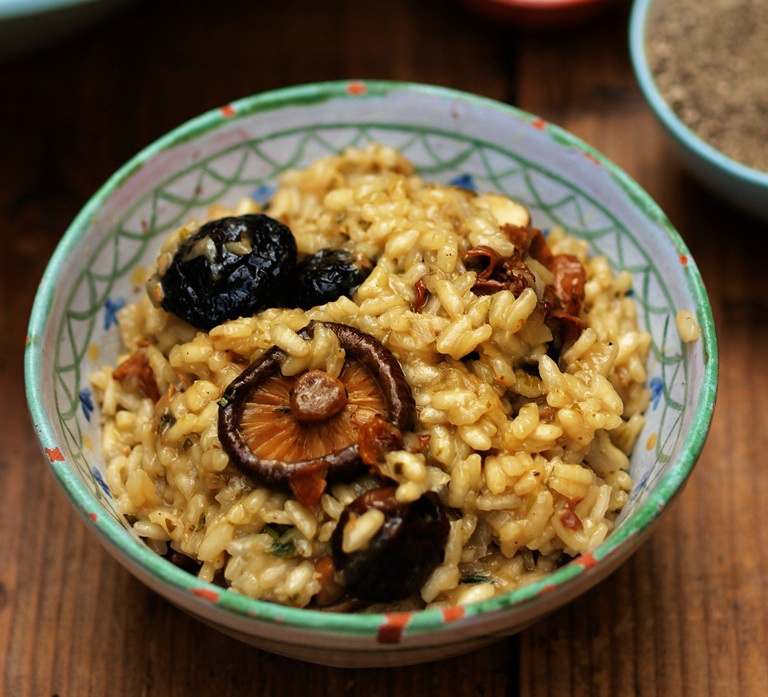background: (109, 152, 768, 668)
